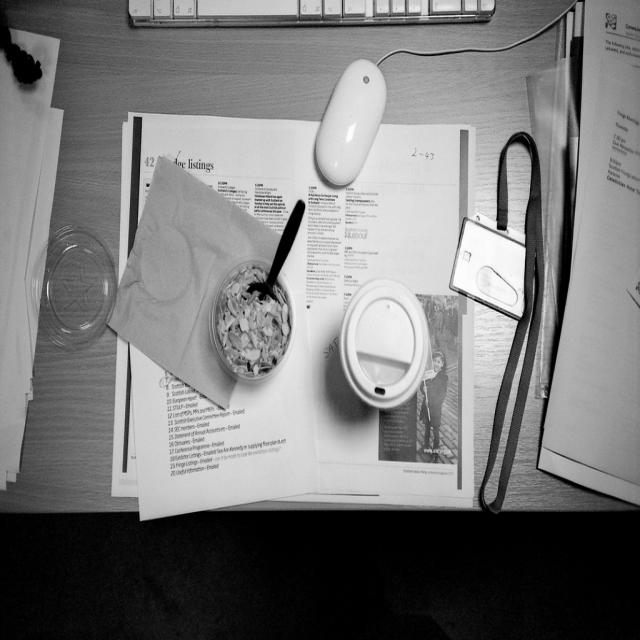Computer-mouse: (314, 56, 387, 184)
